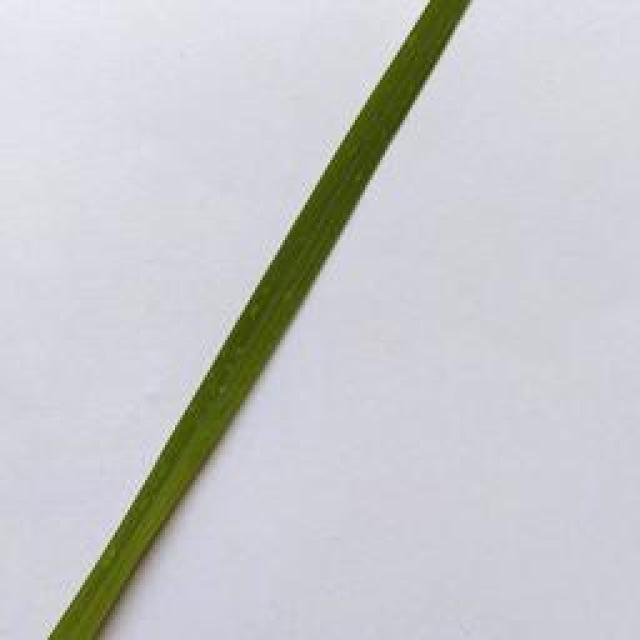Healthy: (45, 0, 472, 640)
